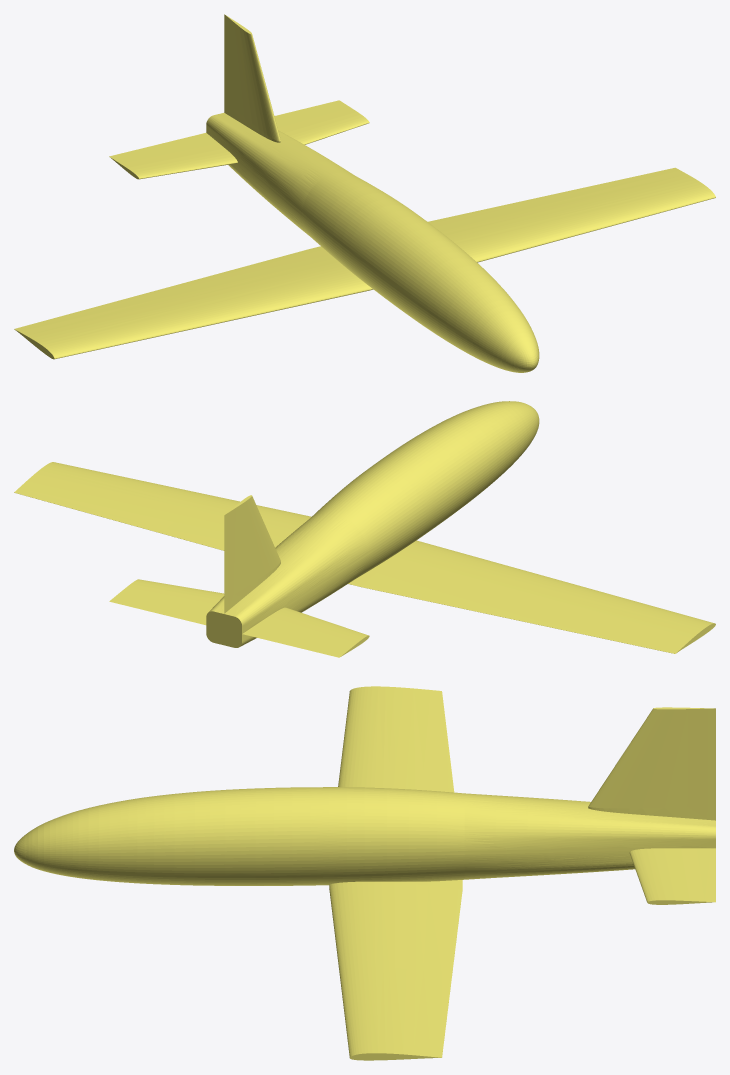
Rendered from CNG.glb.
3 views of the same model, one above another, from view 1: azimuth 30°, elevation 25°; view 2: azimuth 150°, elevation 25°; view 3: azimuth 270°, elevation 25° (orthographic). The views are drawn at different scales.
Parts seen in each view (by area): view 1: cengaver.stl; view 2: cengaver.stl; view 3: cengaver.stl.
Boxes of the visible parts, <box> form: cengaver.stl: <box>14,14,715,372</box>; cengaver.stl: <box>14,401,715,657</box>; cengaver.stl: <box>14,686,715,1060</box>.
Size of the model in its own units: 2.21 by 0.4863 by 1.79.
